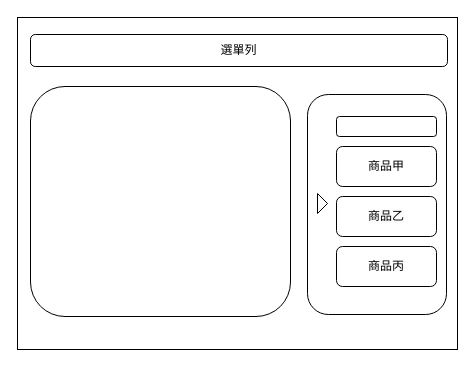
The diagram is 475 pixels wide and 367 high, and some of its shapes have lost their labels. Here are the shapes that lost their labels. From the top down, the centre of each, then its label:
At [386,126]: "搜尋欄".
At [160,201]: "地圖".
